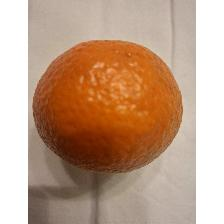Mandarine: (31, 38, 188, 178)
